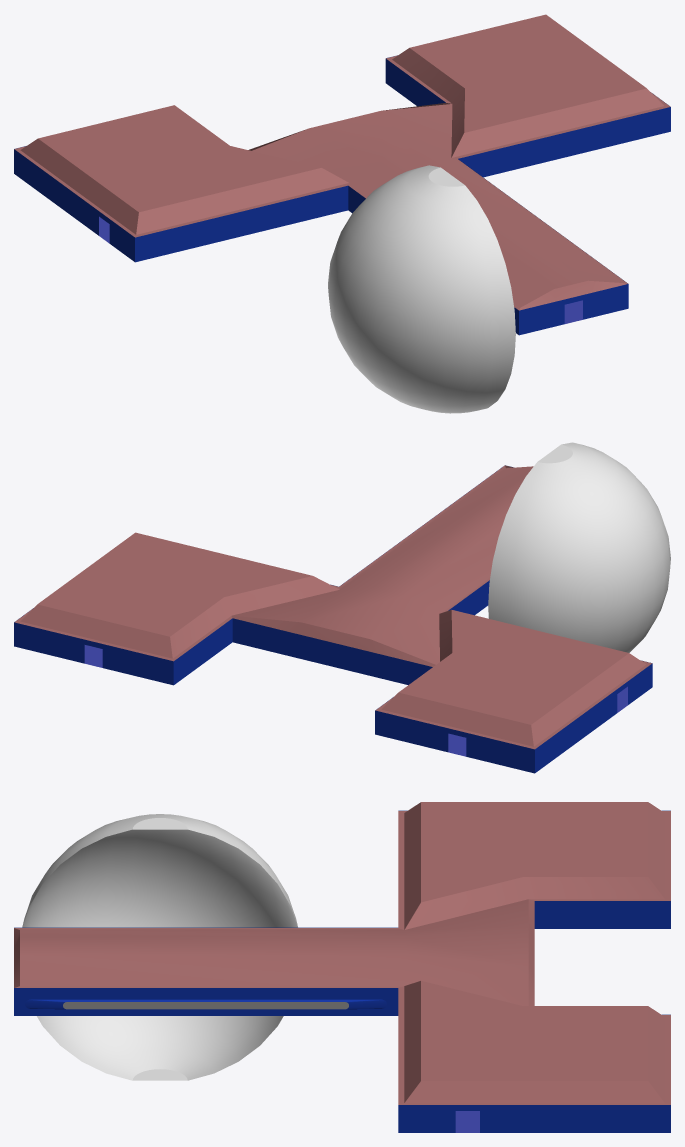
File: Large Y Room With Windows SS.FBX
3 renders of one model, top to bottom at view 1: azimuth 30°, elevation 25°; view 2: azimuth 150°, elevation 25°; view 3: azimuth 270°, elevation 25°, orthographic. The views are drawn at different scales.
Visible parts, largest first — view 1: Sphere001, Object008, Object009, Object007, Object010, Object011, Plane062; view 2: Sphere001, Object007, Object009, Object008, Object011, Object010, Plane062; view 3: Sphere001, Object007, Object009, Object008, Plane062, Object011, Object012.
Boxes of the visible parts, bbox=[...] form: Sphere001: bbox=[328, 165, 515, 413]; Object008: bbox=[14, 105, 348, 237]; Object009: bbox=[386, 14, 670, 158]; Object007: bbox=[248, 103, 627, 310]; Object010: bbox=[14, 146, 348, 262]; Object011: bbox=[385, 55, 670, 177]; Plane062: bbox=[348, 159, 628, 335]; Sphere001: bbox=[488, 442, 670, 652]; Object007: bbox=[232, 465, 533, 666]; Object009: bbox=[14, 532, 339, 661]; Object008: bbox=[375, 609, 651, 749]; Object011: bbox=[14, 584, 432, 685]; Object010: bbox=[375, 660, 652, 773]; Plane062: bbox=[339, 465, 512, 709]; Sphere001: bbox=[22, 814, 297, 1080]; Object007: bbox=[14, 899, 534, 1005]; Object009: bbox=[398, 980, 670, 1104]; Object008: bbox=[398, 802, 670, 929]; Plane062: bbox=[14, 901, 670, 1015]; Object011: bbox=[398, 1014, 670, 1132]; Object012: bbox=[63, 1002, 348, 1009].
Bounding box in the file's own units: 115 × 45.76 × 108.
